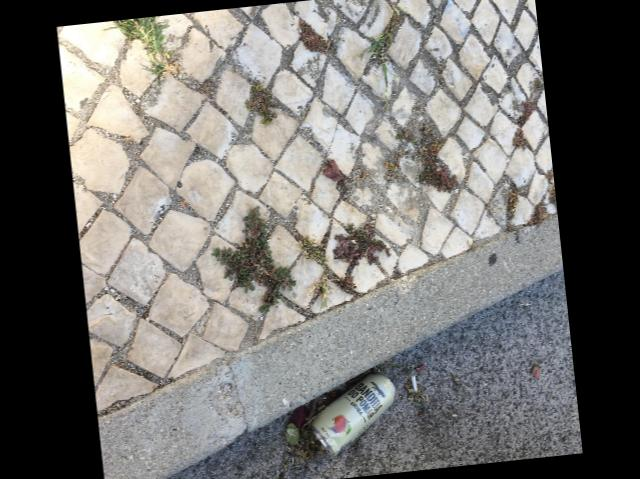metal: (311, 372, 396, 455)
